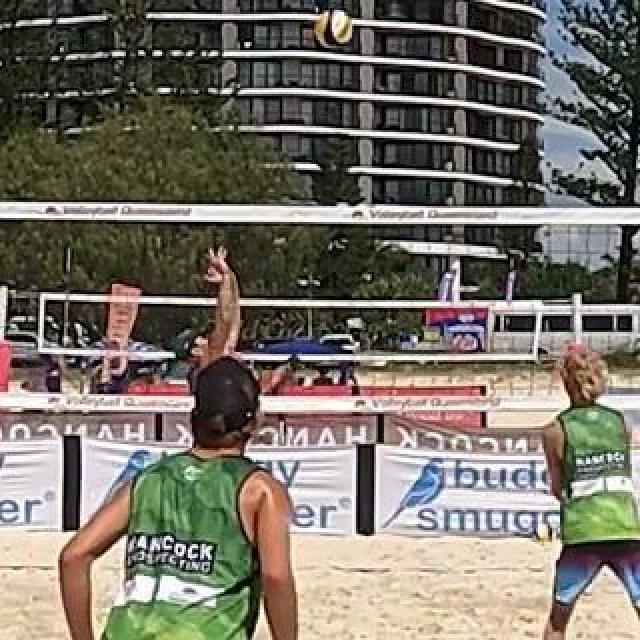volleyball: (317, 10, 353, 44)
